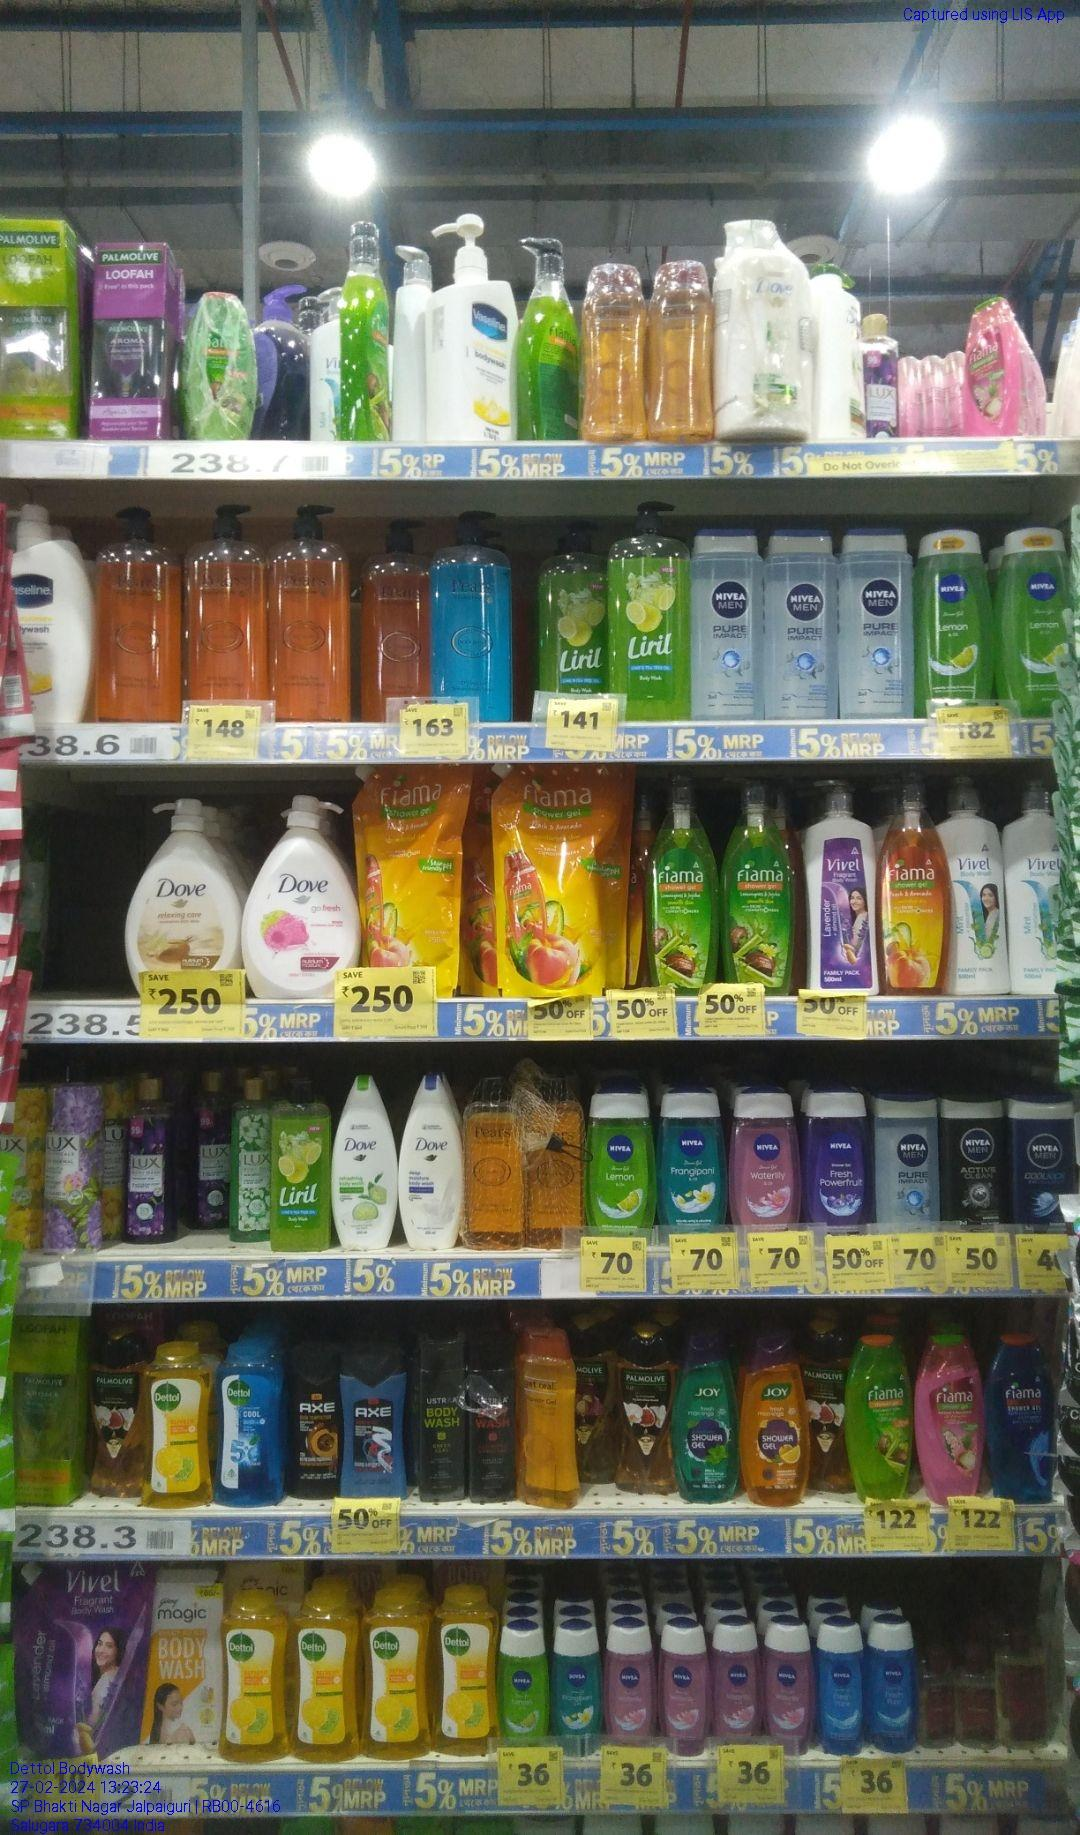Dettol_Bodywash_Cool: (217, 1347, 280, 1507)
Dettol_Bodywash_Refresh: (288, 1593, 359, 1764), (364, 1592, 432, 1760), (220, 1592, 285, 1764), (145, 1343, 211, 1511), (433, 1591, 499, 1757)
Dove_Deep_Moisture_Body_Wash_250ML: (397, 1070, 463, 1253)
Dove_Refreshing_Body_Wash_250ML: (334, 1073, 395, 1255)
Fiama_Shower_Gel_Lemongrass_and_Jojoba_250ML: (847, 1333, 912, 1502)
Fiama_Shower_Gel_Patchouli_and_Macadamia_250ML: (918, 1335, 982, 1509), (964, 293, 1020, 437)
Get_Real_Shower_Gel_Moisturising_Glycerin_300ML: (648, 258, 711, 439), (513, 1327, 571, 1511), (585, 261, 643, 442)
Joy_Shower_Gel_Mandarin_and_Lemongrass_250ML: (741, 1331, 801, 1507)
Joy_Shower_Gel_Mint_and_Eucalyptus_250ML: (678, 1329, 738, 1505)
Liril_Lime_and_Tea_Tree_Oil_Body_Wash_250ML: (273, 1073, 330, 1257)
Lux_Black_Orchid_Scent_and_Juniper_Oil_Body_Wash_245ML: (125, 1078, 172, 1245), (193, 1067, 230, 1231), (860, 312, 900, 441)
Lux_Body_Wash_Skin_Detox_Freesia_Scent_and_Alove_Vera_245ML: (233, 1077, 270, 1248)
Nivea_Shower_Gel_Frangipani_and_Oil_250ML: (660, 1083, 726, 1234), (552, 1626, 602, 1757)
Nivea_Shower_Gel_Fresh_Powerfruit_250ML: (806, 1085, 869, 1230)
Nivea_Shower_Gel_Lemon_and_Oil_250ML: (1003, 523, 1080, 721), (917, 522, 993, 716), (588, 1082, 652, 1230), (501, 1622, 544, 1750)
Nivea_Shower_Gel_Waterlily_and_Oil_250ML: (730, 1082, 797, 1227), (661, 1622, 710, 1759), (606, 1622, 657, 1746), (765, 1619, 811, 1757), (714, 1618, 761, 1744)
Palmolive_Luminous_Oils_Invigorating_Macadamia_Oil_With_Peony_250ML: (573, 1322, 617, 1485)
Palmolive_Luminous_Oils_With_White_Orchid_Shower_Gel_250ML: (87, 1327, 143, 1501), (617, 1330, 674, 1496), (802, 1326, 846, 1493)
